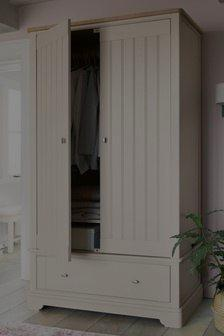Armario: (27, 5, 208, 313)
Matera: (173, 207, 223, 332)
